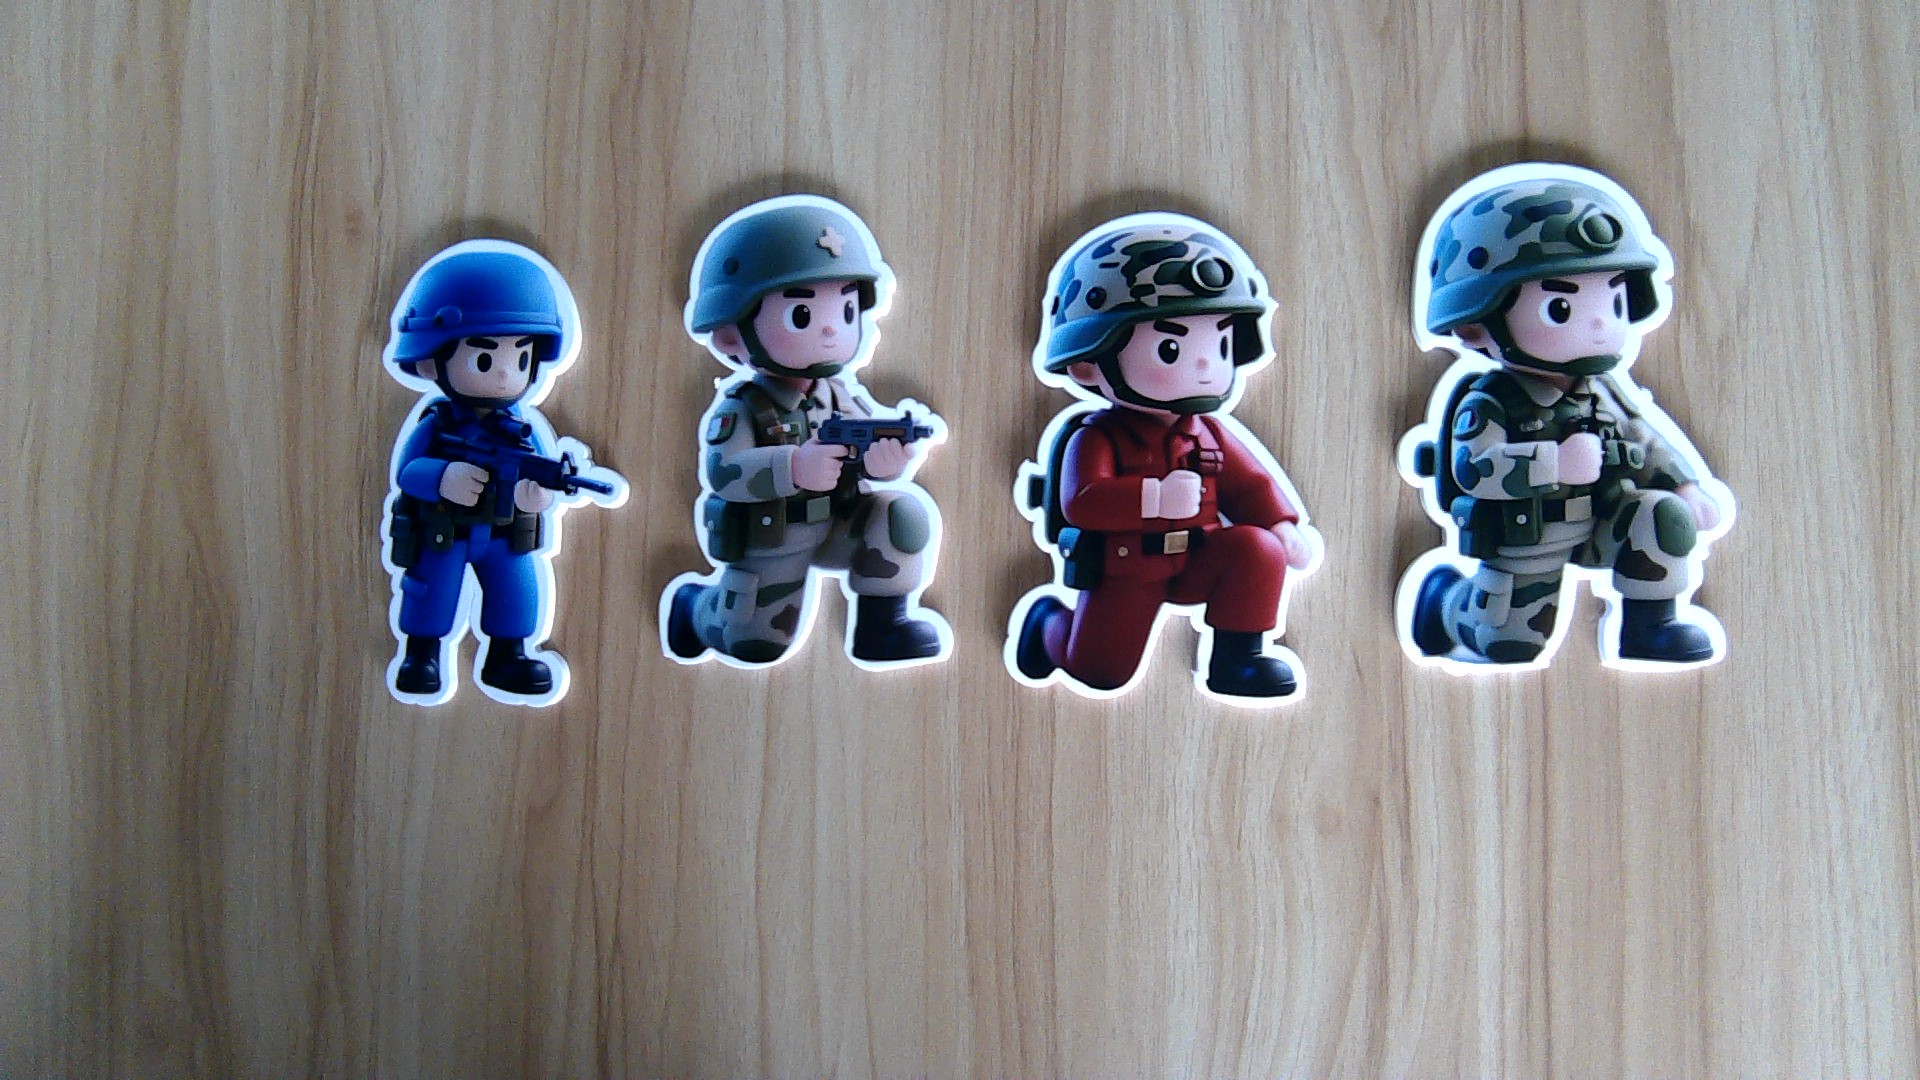友军: (1379, 363, 1745, 680), (650, 378, 965, 684)
敌人1: (996, 405, 1331, 705)
敌人2: (375, 396, 632, 708)
